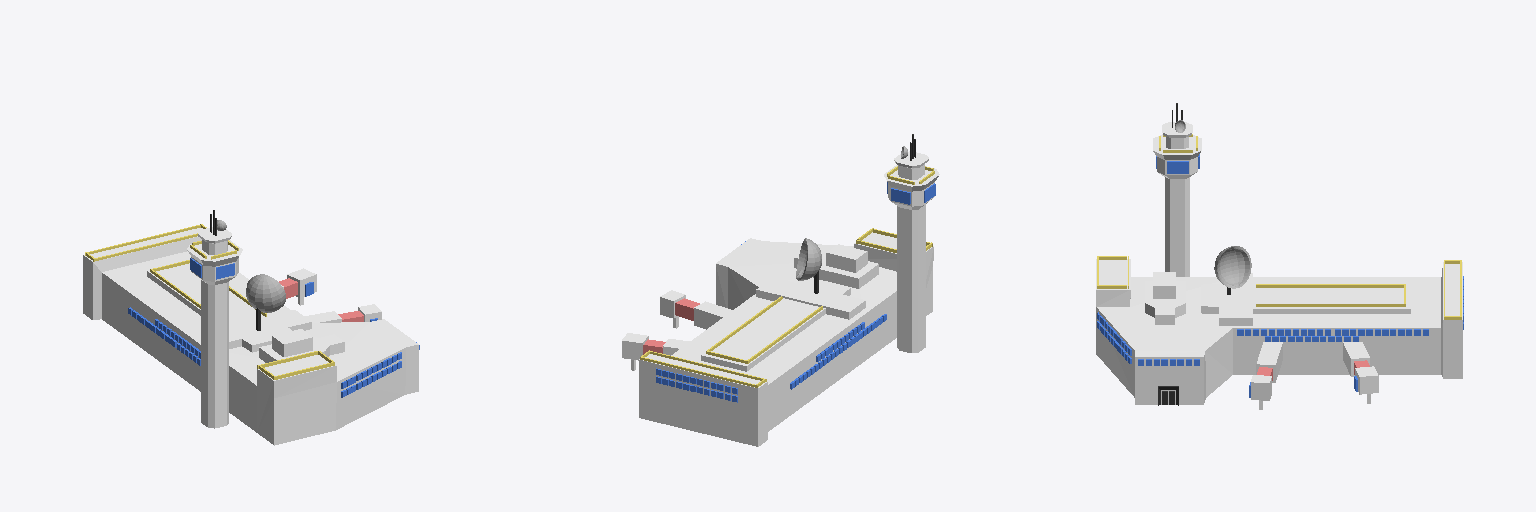
The model's file is pajala1.obj.
3 views of the same model, side by side, from view 1: azimuth 30°, elevation 25°; view 2: azimuth 150°, elevation 25°; view 3: azimuth 270°, elevation 25° (orthographic).
Visible parts, largest first — view 1: pCube72; view 2: pCube72; view 3: pCube72.
Boxes of the visible parts, x1=… form: pCube72: x1=83, y1=210, x2=419, y2=445; pCube72: x1=622, y1=134, x2=939, y2=446; pCube72: x1=1096, y1=103, x2=1463, y2=409.
Size of the model in its own units: 3.53 by 3.17 by 4.96.